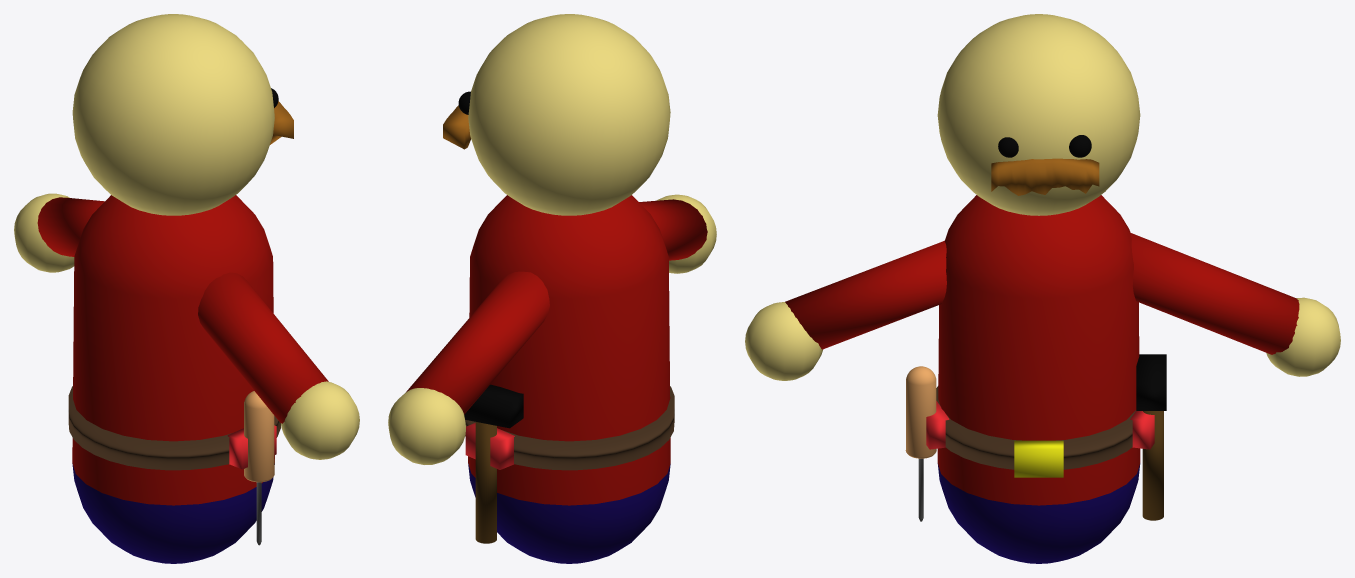
File: vecino.glb
The picture shows the model from 3 angles, left to right: view 1: azimuth 30°, elevation 25°; view 2: azimuth 150°, elevation 25°; view 3: azimuth 270°, elevation 25°; orthographic projection.
Parts seen in each view (by area): view 1: Sphere.001, Sphere, Cylinder.001, Cylinder, Sphere.002, Sphere.004, Cylinder.002, Sphere.003, Cube.001, Cube.003; view 2: Sphere.001, Sphere, Cylinder.002, Cylinder, Sphere.003, Cube.004, Cylinder.001, Sphere.002, Cube.002, Cube.003; view 3: Sphere.001, Sphere, Cylinder.002, Cylinder.001, Cylinder, Sphere.002, Cube.004, Sphere.003, Cube.003, Sphere.004, Cube, Cube.002 (+1 smaller).
Boxes of the visible parts, left/top/right/bottom form: Sphere.001: left=72, top=195, right=274, bottom=563; Sphere: left=72, top=14, right=274, bottom=215; Cylinder.001: left=198, top=272, right=328, bottom=423; Cylinder: left=68, top=386, right=280, bottom=470; Sphere.002: left=281, top=381, right=359, bottom=459; Sphere.004: left=244, top=391, right=274, bottom=545; Cylinder.002: left=37, top=197, right=104, bottom=256; Sphere.003: left=14, top=193, right=74, bottom=272; Cube.001: left=227, top=425, right=276, bottom=469; Cube.003: left=270, top=101, right=293, bottom=144; Sphere.001: left=468, top=195, right=670, bottom=563; Sphere: left=468, top=14, right=670, bottom=215; Cylinder.002: left=406, top=271, right=549, bottom=414; Cylinder: left=465, top=386, right=674, bottom=470; Sphere.003: left=388, top=388, right=465, bottom=464; Cube.004: left=464, top=384, right=523, bottom=543; Cylinder.001: left=639, top=199, right=707, bottom=260; Sphere.002: left=657, top=194, right=716, bottom=273; Cube.002: left=465, top=423, right=514, bottom=469; Cube.003: left=443, top=105, right=470, bottom=149; Sphere.001: left=937, top=195, right=1140, bottom=563; Sphere: left=937, top=14, right=1140, bottom=215; Cylinder.002: left=1130, top=233, right=1299, bottom=354; Cylinder.001: left=785, top=240, right=946, bottom=349; Cylinder: left=936, top=386, right=1136, bottom=469; Sphere.002: left=745, top=302, right=823, bottom=380; Cube.004: left=1136, top=354, right=1166, bottom=520; Sphere.003: left=1266, top=297, right=1340, bottom=376; Cube.003: left=991, top=158, right=1099, bottom=195; Sphere.004: left=905, top=366, right=936, bottom=521; Cube: left=1014, top=440, right=1063, bottom=477; Cube.002: left=1130, top=411, right=1154, bottom=449.
Bounding box in the file's own units: 2.24 × 5.78 × 5.88.
